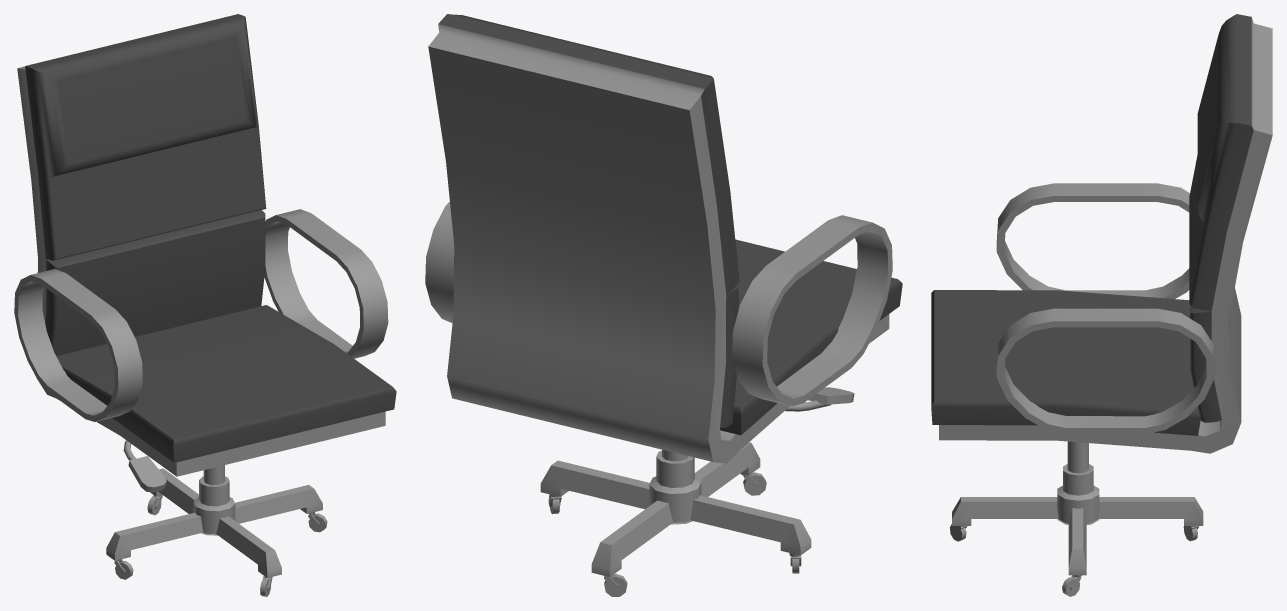
Rendered from Silla04.fbx.
3 views of the same model, side by side, from view 1: azimuth 30°, elevation 25°; view 2: azimuth 150°, elevation 25°; view 3: azimuth 270°, elevation 25° (orthographic). The views are drawn at different scales.
Parts seen in each view (by area): view 1: Silla04; view 2: Silla04; view 3: Silla04.
Part boxes in pixels (bbox=[...]): Silla04: bbox=[14, 14, 396, 596]; Silla04: bbox=[425, 14, 902, 596]; Silla04: bbox=[931, 14, 1272, 596].
Bounding box in the file's own units: 98.45 × 159 × 103.
